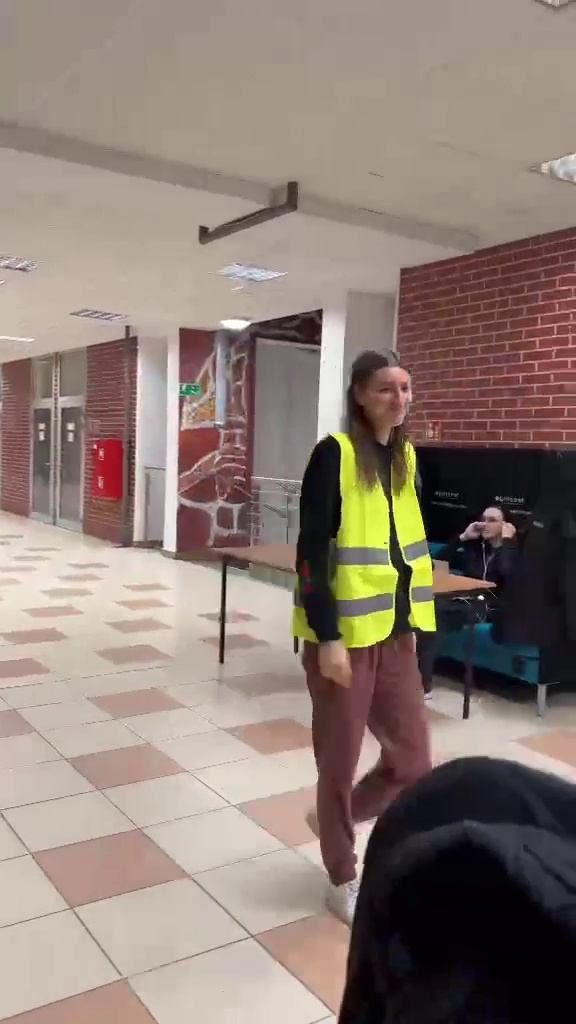no vest: (447, 504, 520, 633)
vest: (288, 351, 449, 879)
